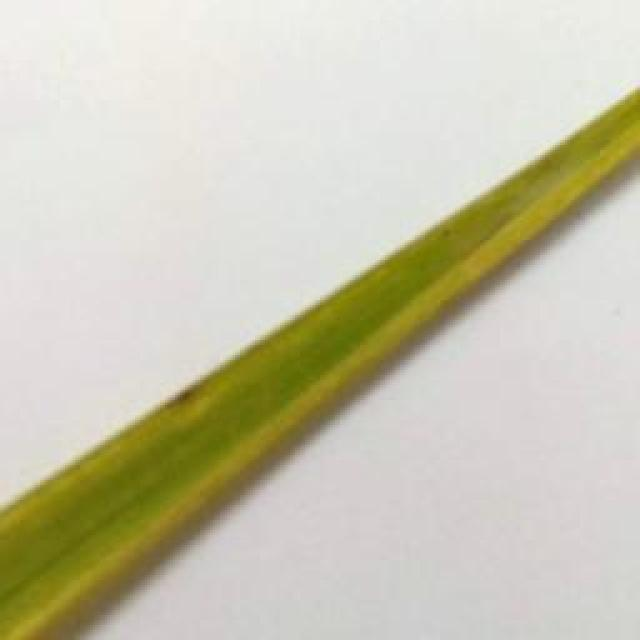Bacterial_Blight: (0, 121, 640, 600)
